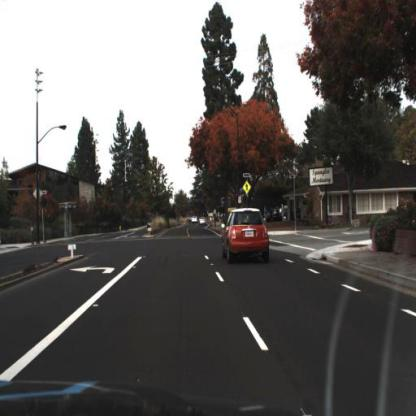car: (222, 208, 272, 261)
pedestrian: (263, 203, 270, 226), (281, 203, 287, 224), (276, 207, 281, 225)
